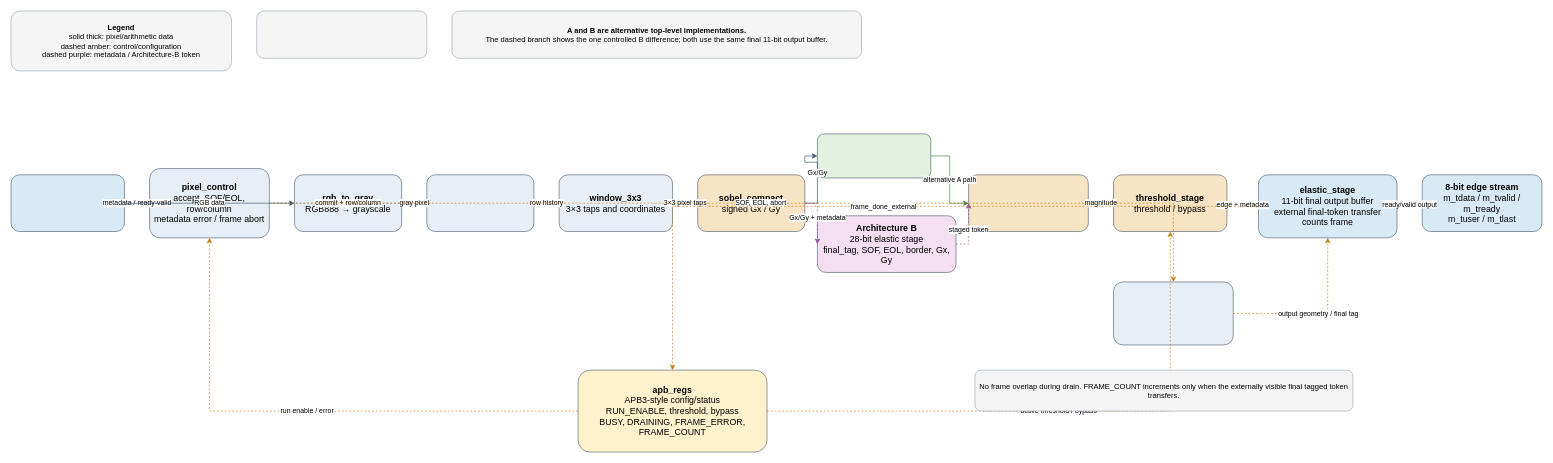
Some shapes in this 1553 by 463 pixel diagram are drawn without their labels. Each missing label, with the centre of its shape:
"Architecture A direct Gx/Gy path" goes at (x=874, y=155).
"line_buffer two-line history" goes at (x=480, y=203).
"magnitude_clamp magnitude + 8-bit clamp" goes at (x=1028, y=203).
"output_control geometry, border, drain W+1 alignment / final drain" goes at (x=1173, y=313).
"RGB888 streaming input s_tdata / s_tvalid / s_tready s_tuser / s_tlast" goes at (x=67, y=203).
"Timing single clock domain synchronous active-high reset: clk / rst" goes at (x=341, y=34).
